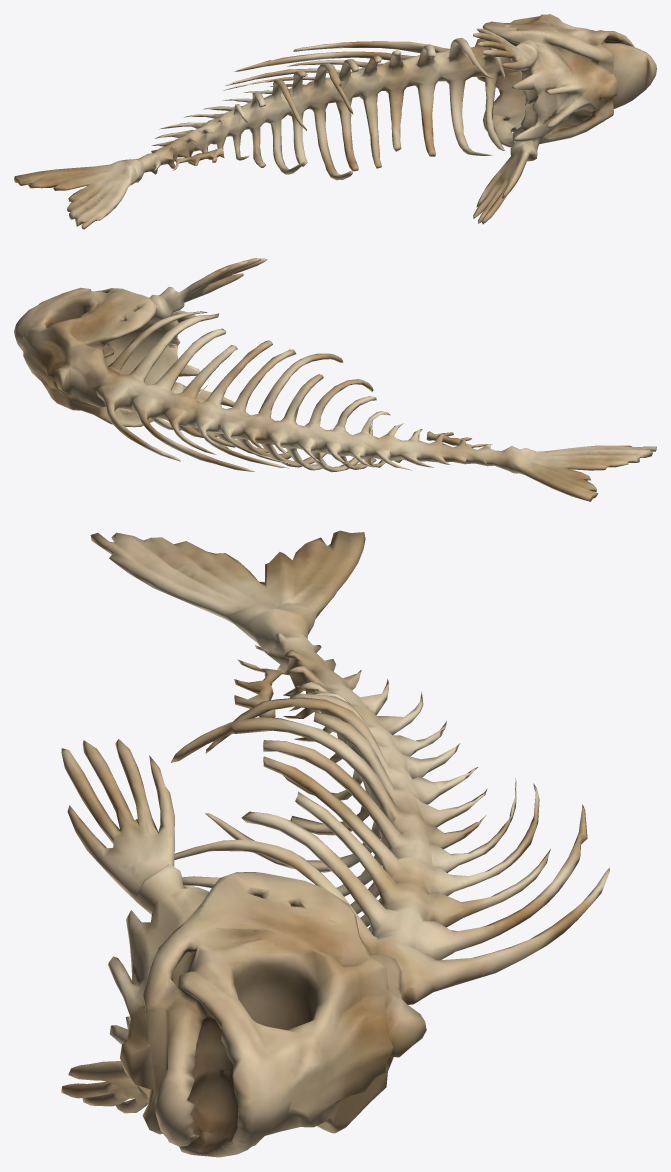
Rendered from bone_cracked_l.glb.
3 renders of one model, top to bottom at view 1: azimuth 30°, elevation 25°; view 2: azimuth 150°, elevation 25°; view 3: azimuth 270°, elevation 25°, orthographic. The views are drawn at different scales.
Parts seen in each view (by area): view 1: bone_cracked_l; view 2: bone_cracked_l; view 3: bone_cracked_l.
Boxes of the visible parts, x1,y1,x2,y2 form: bone_cracked_l: (14,14,656,229); bone_cracked_l: (14,258,656,501); bone_cracked_l: (61,530,609,1157).
Bounding box in the file's own units: 0.3 × 0.0891 × 0.1195.
Materials: 1 (1 with a texture image).
